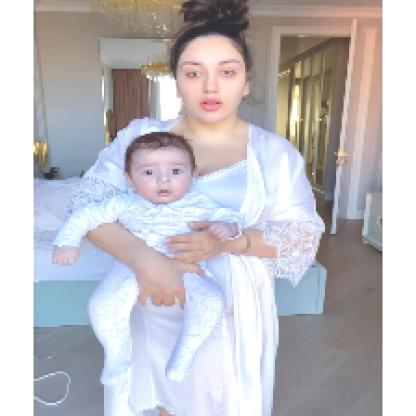child: (49, 133, 248, 416)
